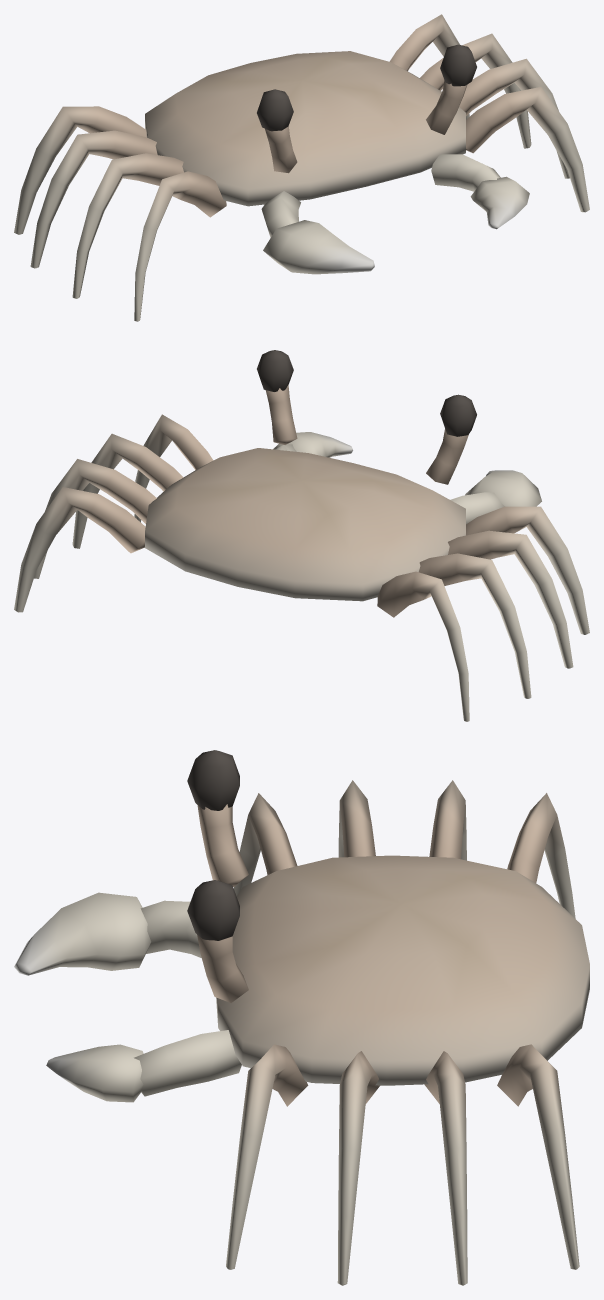
Rendered from shore_crab.glb.
The picture shows the model from 3 angles, top to bottom: view 1: azimuth 30°, elevation 25°; view 2: azimuth 150°, elevation 25°; view 3: azimuth 270°, elevation 25°; orthographic projection. The views are drawn at different scales.
Visible parts, largest first — view 1: shore_crab; view 2: shore_crab; view 3: shore_crab.
Part boxes in pixels (x1,y1,x2,y2): shore_crab: [14, 14, 589, 321]; shore_crab: [14, 350, 589, 721]; shore_crab: [14, 750, 589, 1285].
Bounding box in the file's own units: 0.1967 × 0.0765 × 0.1349.
